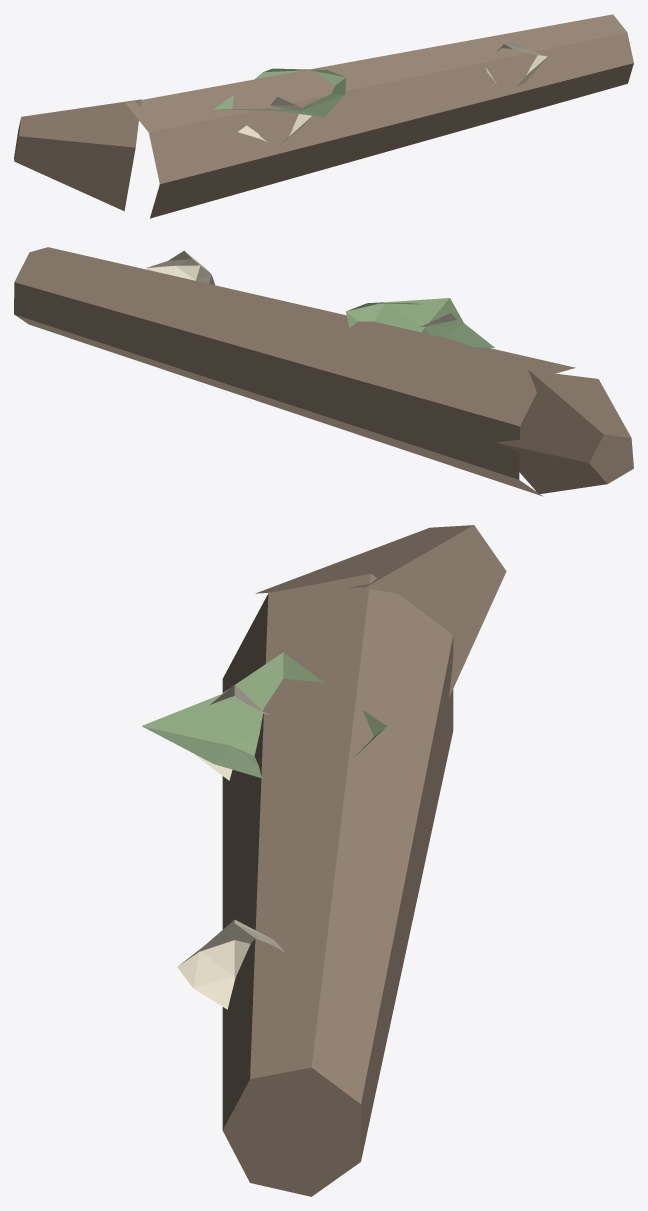
File: log_v12.glb
3 renders of one model, top to bottom at view 1: azimuth 30°, elevation 25°; view 2: azimuth 150°, elevation 25°; view 3: azimuth 270°, elevation 25°, orthographic. The views are drawn at different scales.
Parts seen in each view (by area): view 1: lod0; view 2: lod0; view 3: lod0.
Boxes of the visible parts, x1,y1,x2,y2 form: lod0: [14, 14, 633, 218]; lod0: [14, 247, 633, 496]; lod0: [142, 525, 506, 1196].
Size of what is drawn, in the model's own units: 2.17 by 0.4432 by 0.6015.
